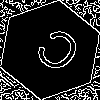C: (25, 25, 85, 83)
